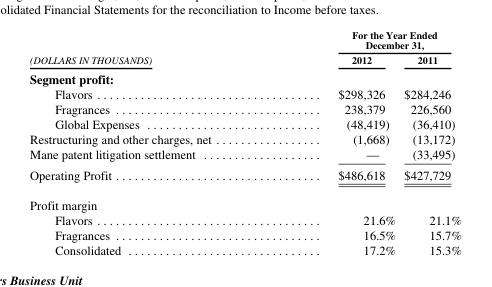table: (29, 28, 460, 256)
table column: (29, 28, 274, 256), (274, 28, 399, 256), (399, 28, 460, 256)
table column header: (29, 28, 460, 68)
table projected row header: (29, 189, 460, 211), (29, 68, 460, 86)
table row: (29, 164, 460, 189), (29, 28, 460, 52), (29, 189, 460, 211), (29, 68, 460, 86), (29, 146, 460, 164), (29, 52, 460, 68), (29, 86, 460, 101), (29, 101, 460, 116), (29, 116, 460, 131), (29, 131, 460, 146), (29, 211, 460, 226), (29, 226, 460, 241), (29, 241, 460, 256)
table spanning cell: (29, 28, 274, 68), (274, 28, 460, 52)
